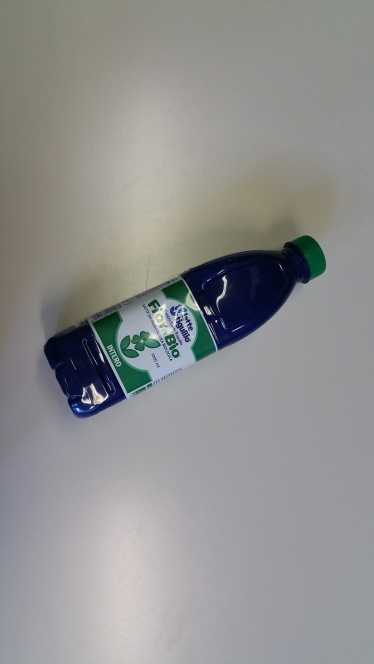bottle: (28, 234, 329, 417)
